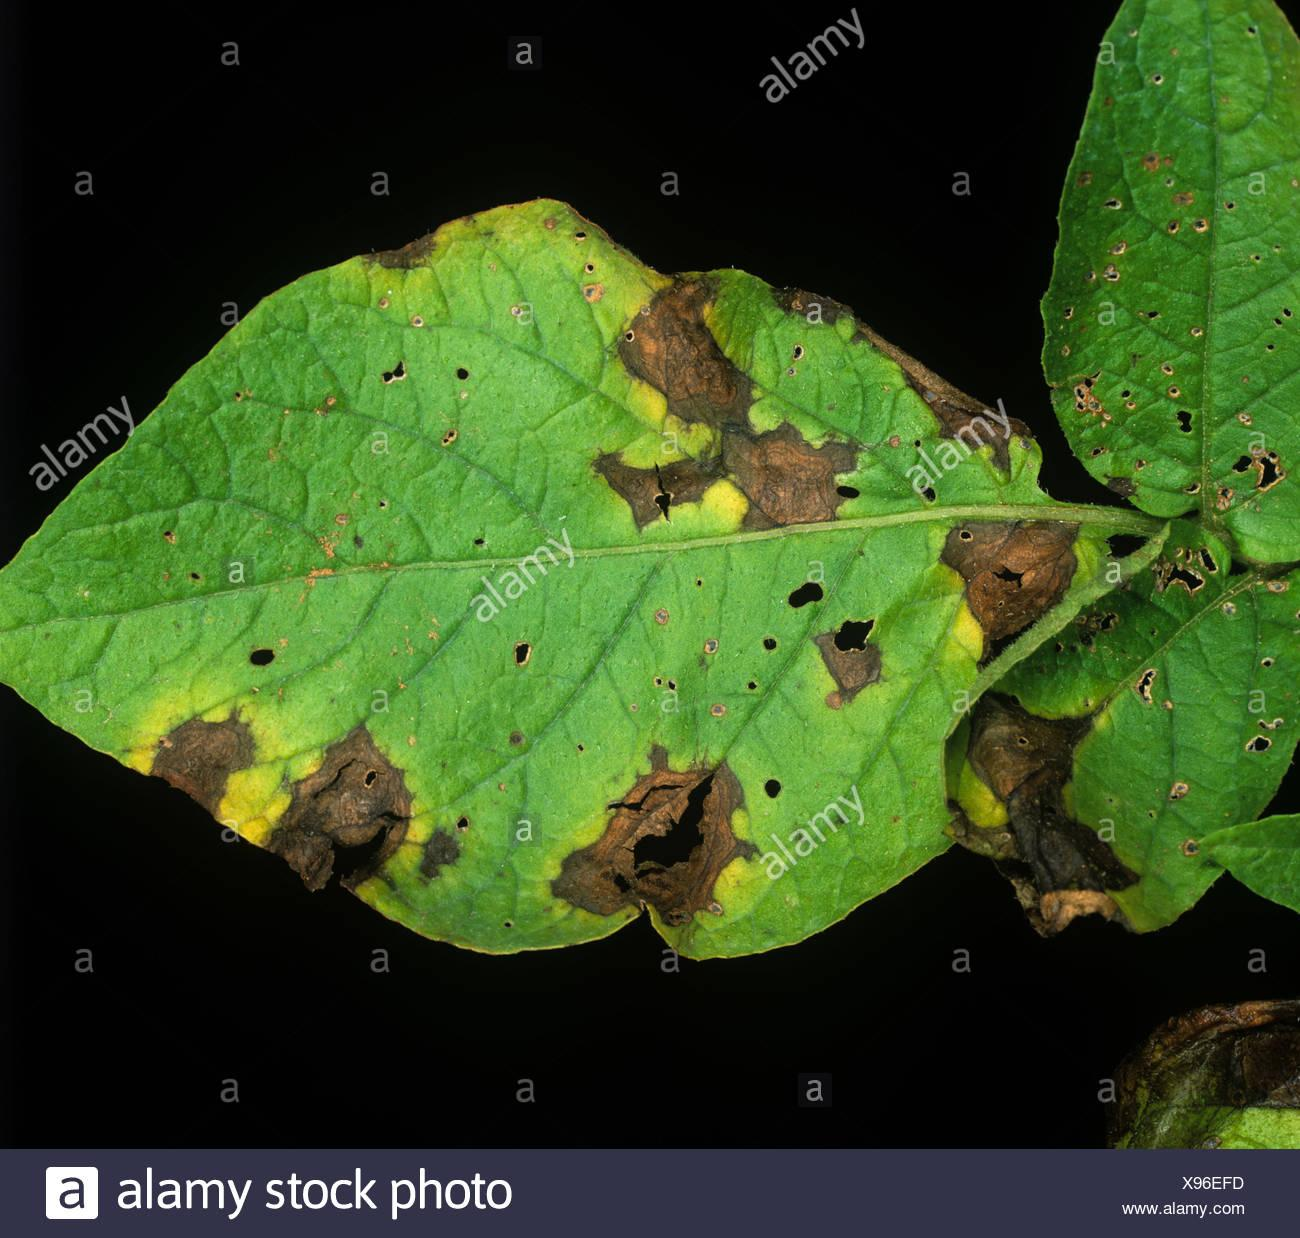Potato leaf late blight: (19, 171, 1120, 1012), (972, 560, 1288, 925)
